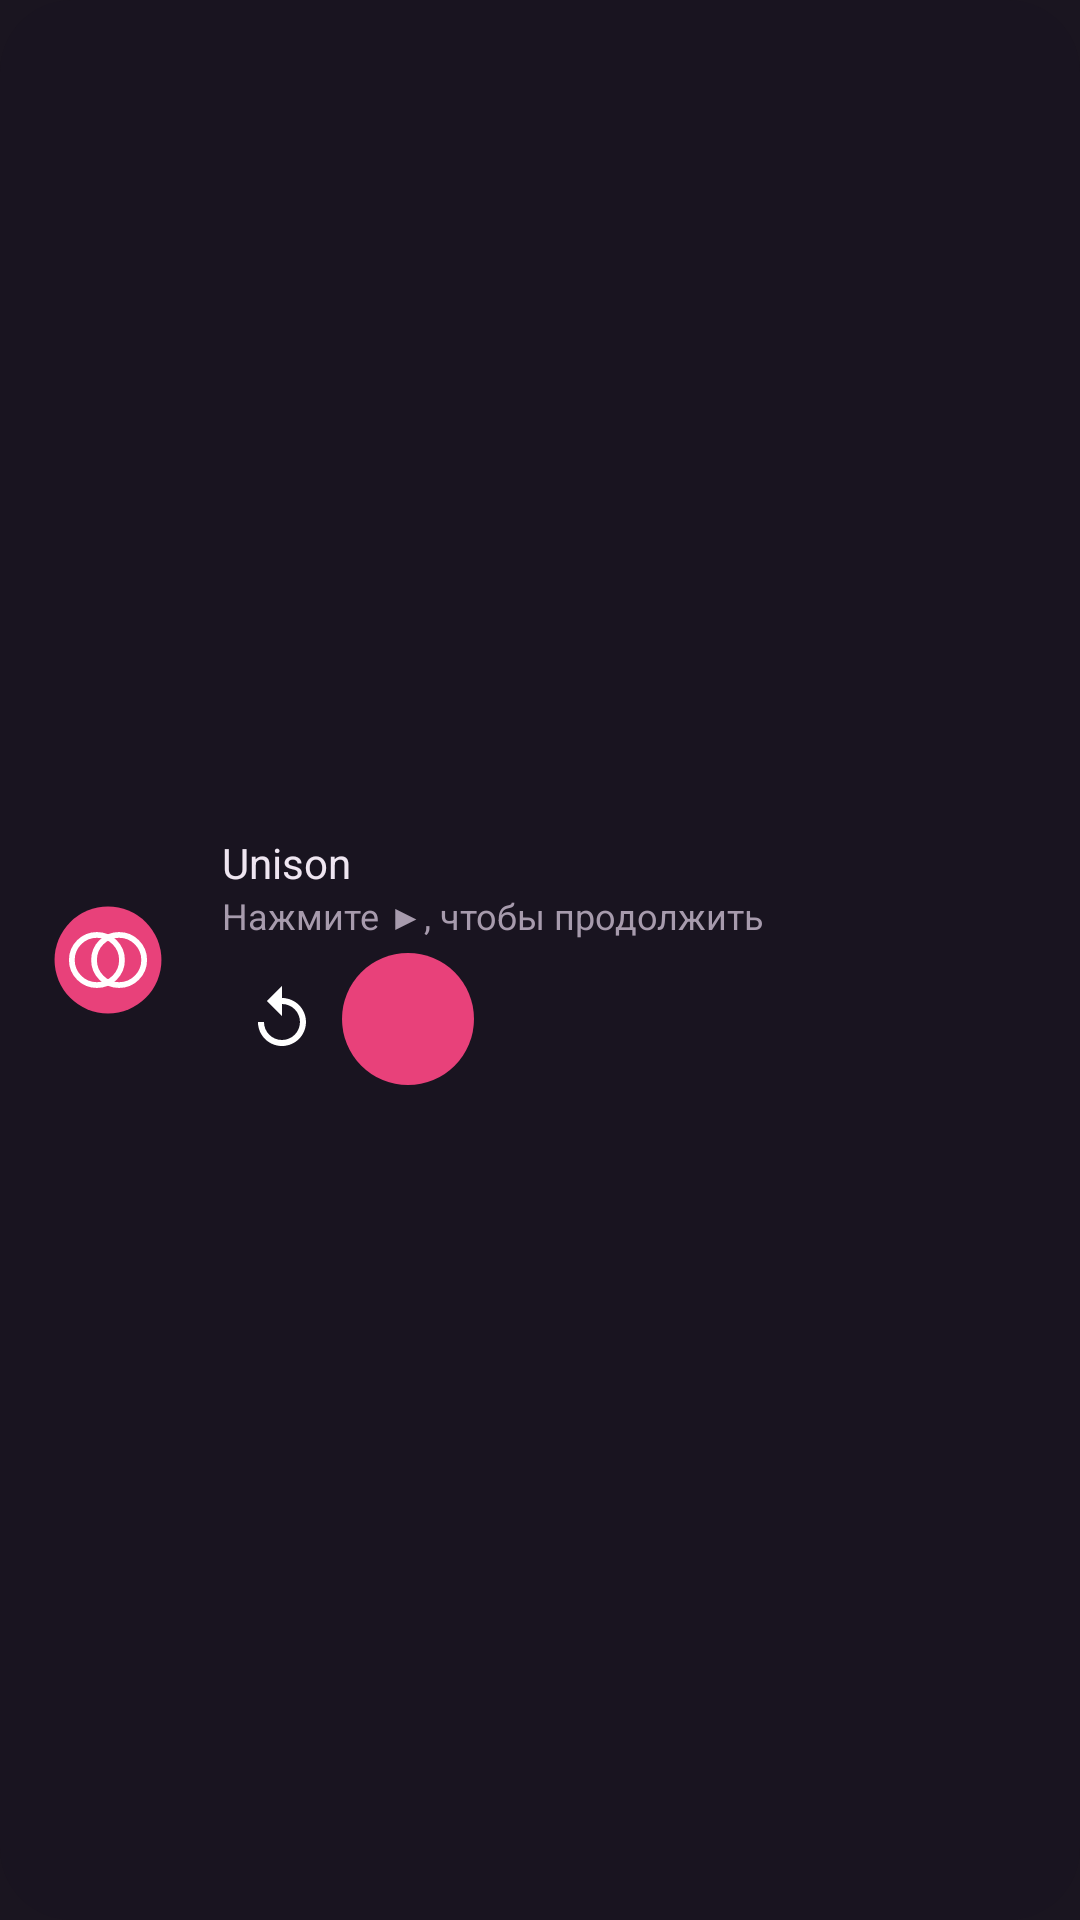

Point at icon controls on the screen. Image size 1080 × 1920, points as (x,y).
Назад: (282,1016)
